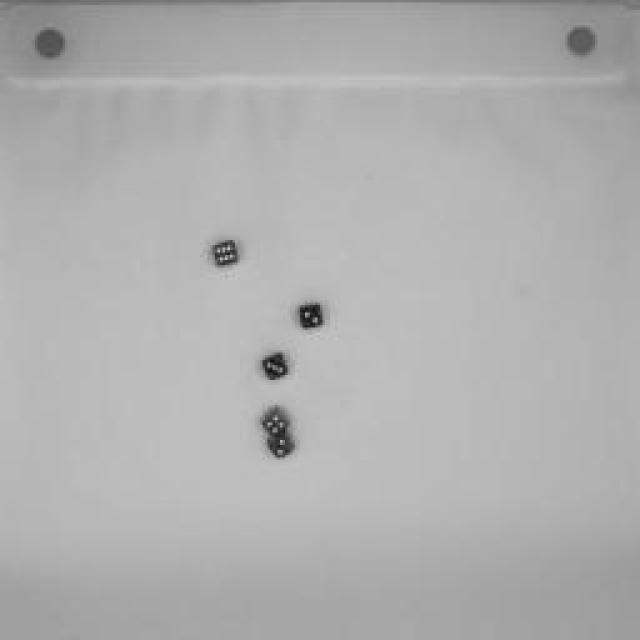dice_2: (292, 300, 332, 335), (266, 430, 299, 460)
dice_3: (258, 346, 292, 384)
dice_4: (256, 406, 294, 439)
dice_6: (210, 235, 245, 270)
